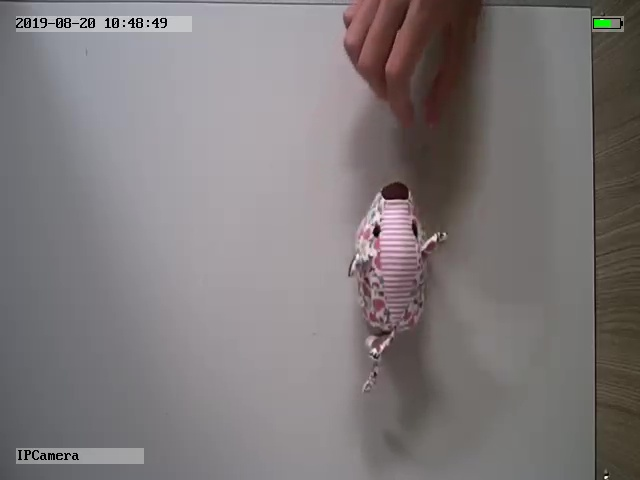pig: (347, 182, 450, 395)
